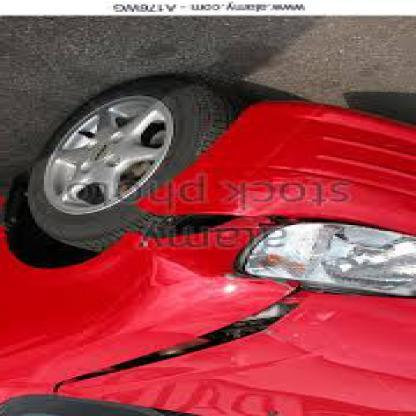dent: (133, 214, 230, 353)
